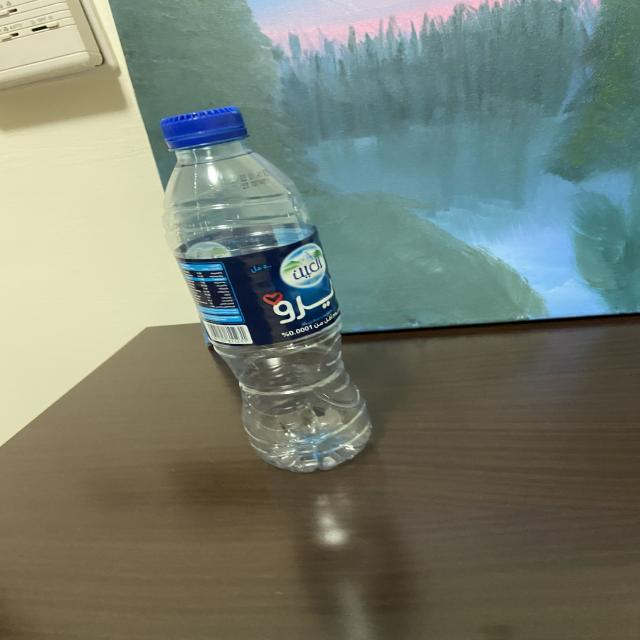chai: (161, 108, 371, 472)
